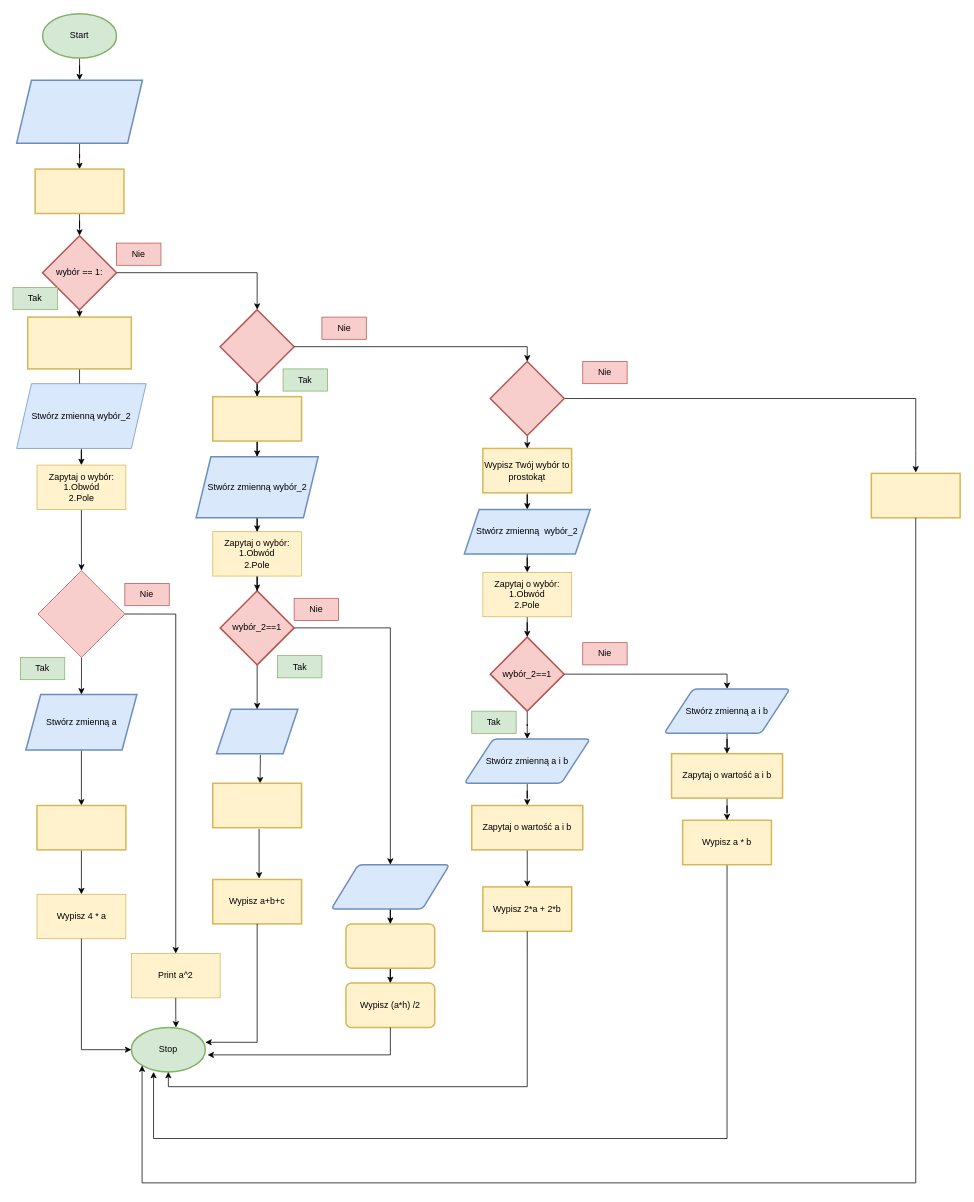
The diagram is 974 pixels wide and 1202 high, and some of its shapes have lost their labels. The centre of each missing label's shape, as x and y in pixels:
Jaki wybór: 1 = kwadrat, 2 = trójkąt 3 = prostokąt: the point at 79,191
Stwórz a,b,c: the point at 256,731
Stwórz zmienna wybór: the point at 79,111
Stwórz zmienną h: the point at 390,886
wybór == 2:: the point at 257,346
wybór == 3:: the point at 527,398
wybór_2 == 1: the point at 81,613
Wypisz Niepoprawny wybór: the point at 915,495
Wypisz Twój wybór to trójkąt: the point at 257,418
Wypisz"Twój wybór to kwadrat": the point at 79,342
Zapytaj o wartośc zmiennej a: the point at 81,827
Zapytaj o wartość a, b,c: the point at 257,805
Zapytaj o wartość zmiennej h: the point at 390,946
